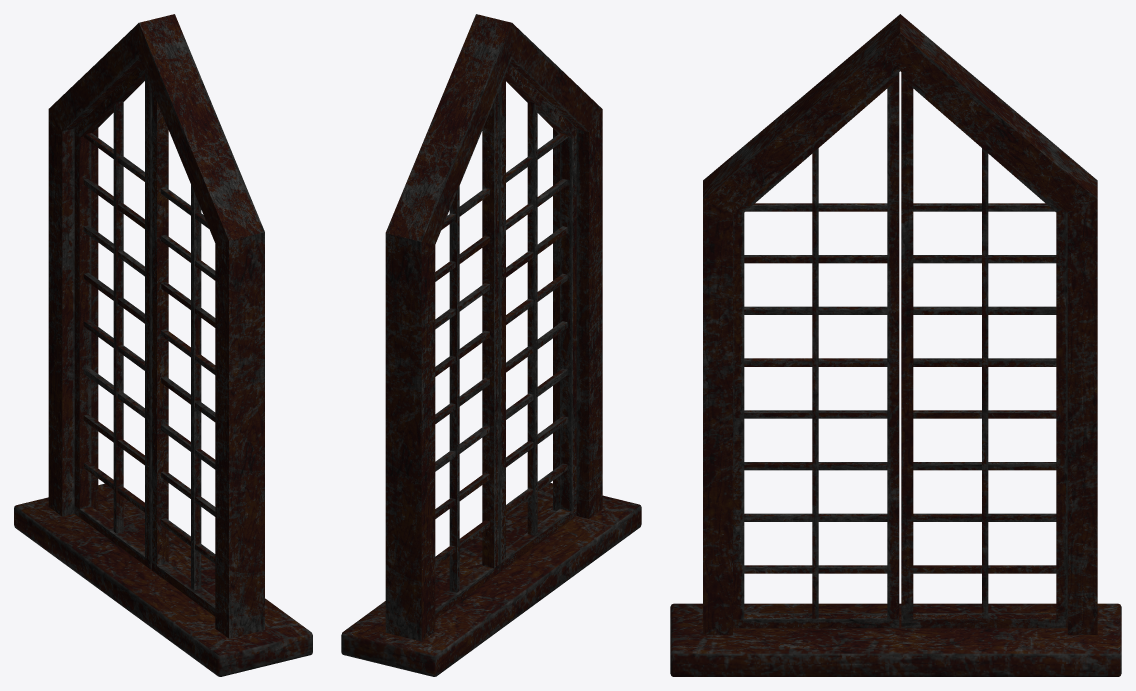
Rendered from Window.fbx.
The picture shows the model from 3 angles, left to right: view 1: azimuth 30°, elevation 25°; view 2: azimuth 150°, elevation 25°; view 3: azimuth 270°, elevation 25°; orthographic projection. The views are drawn at different scales.
Parts seen in each view (by area): view 1: Cube.001; view 2: Cube.001; view 3: Cube.001.
Part boxes in pixels (x1=…): Cube.001: x1=14, y1=14, x2=312, y2=676; Cube.001: x1=341, y1=14, x2=641, y2=676; Cube.001: x1=670, y1=14, x2=1121, y2=676.
Bounding box in the file's own units: 75.06 × 433 × 282.
